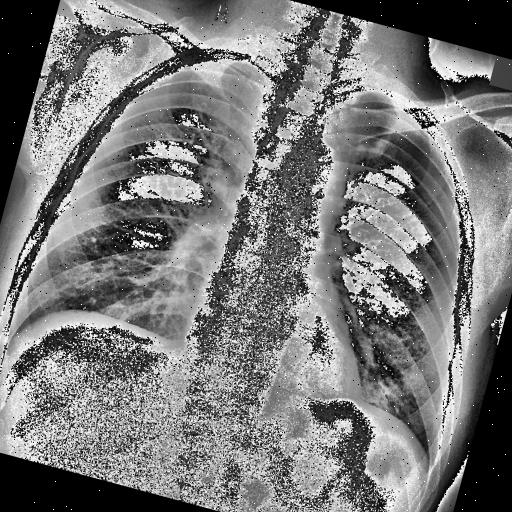0- Aortic enlargement: (269, 134, 355, 230), (286, 136, 352, 202)
13- Pulmonary fibrosis: (354, 132, 390, 164)
